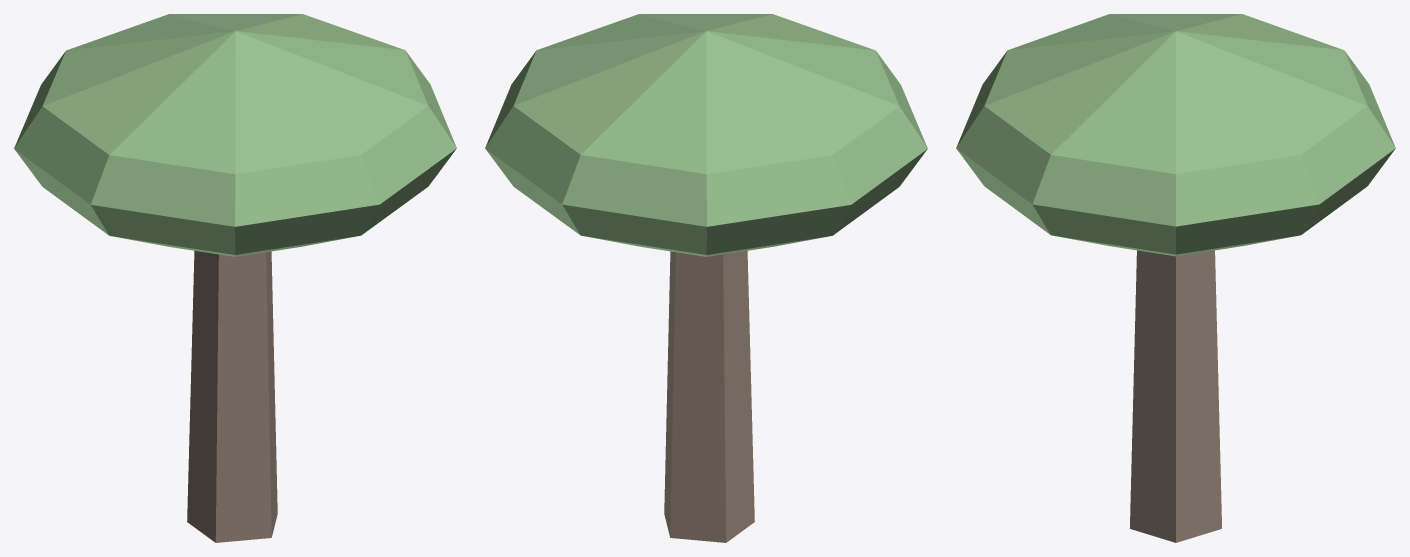
Rendered from tree-palm-date-a-far.glb.
3 renders of one model, left to right at view 1: azimuth 30°, elevation 25°; view 2: azimuth 150°, elevation 25°; view 3: azimuth 270°, elevation 25°, orthographic.
Parts seen in each view (by area): view 1: tree-palm-date-a-far; view 2: tree-palm-date-a-far; view 3: tree-palm-date-a-far.
Part boxes in pixels (left/top/right/bottom): tree-palm-date-a-far: left=14, top=14, right=456, bottom=542; tree-palm-date-a-far: left=485, top=14, right=927, bottom=542; tree-palm-date-a-far: left=956, top=14, right=1395, bottom=542.
Size of the model in its own units: 0.8027 by 1 by 0.8115.
